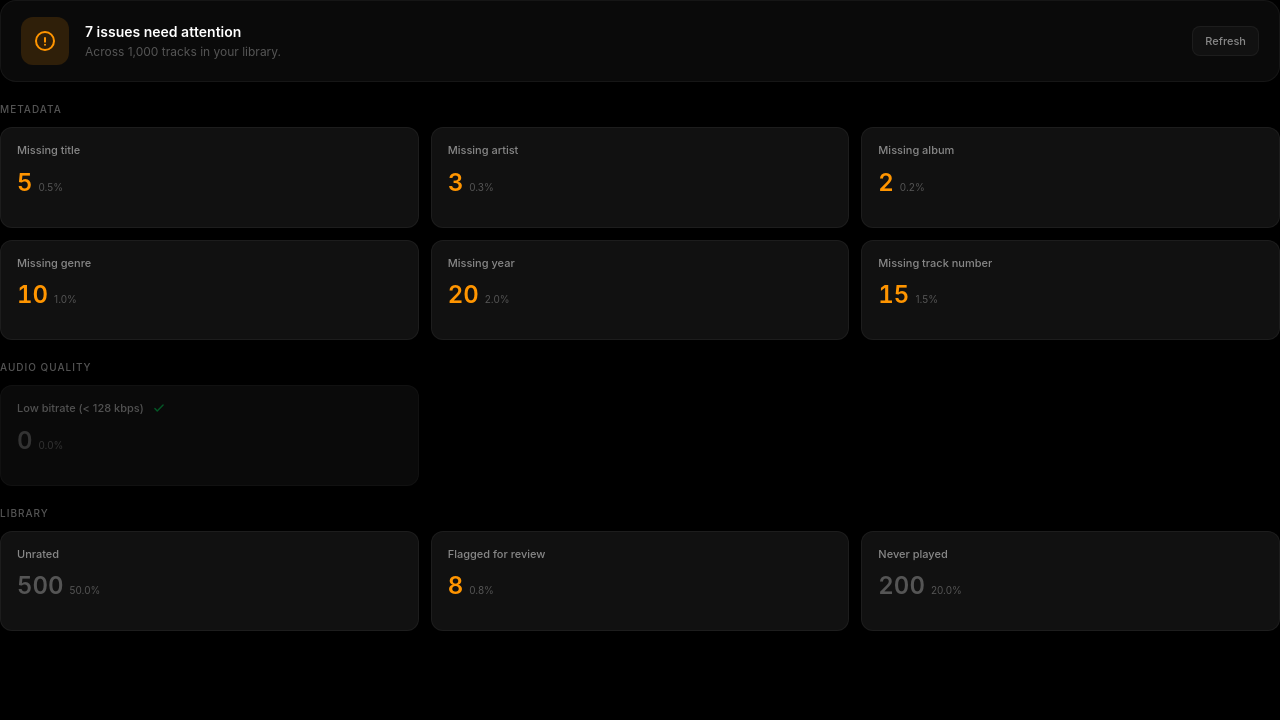
Test case: drill-down › shows selection count when tracks are clicked
Step 1. Click the text "Missing title" → (49, 150), box [17, 142, 80, 158]
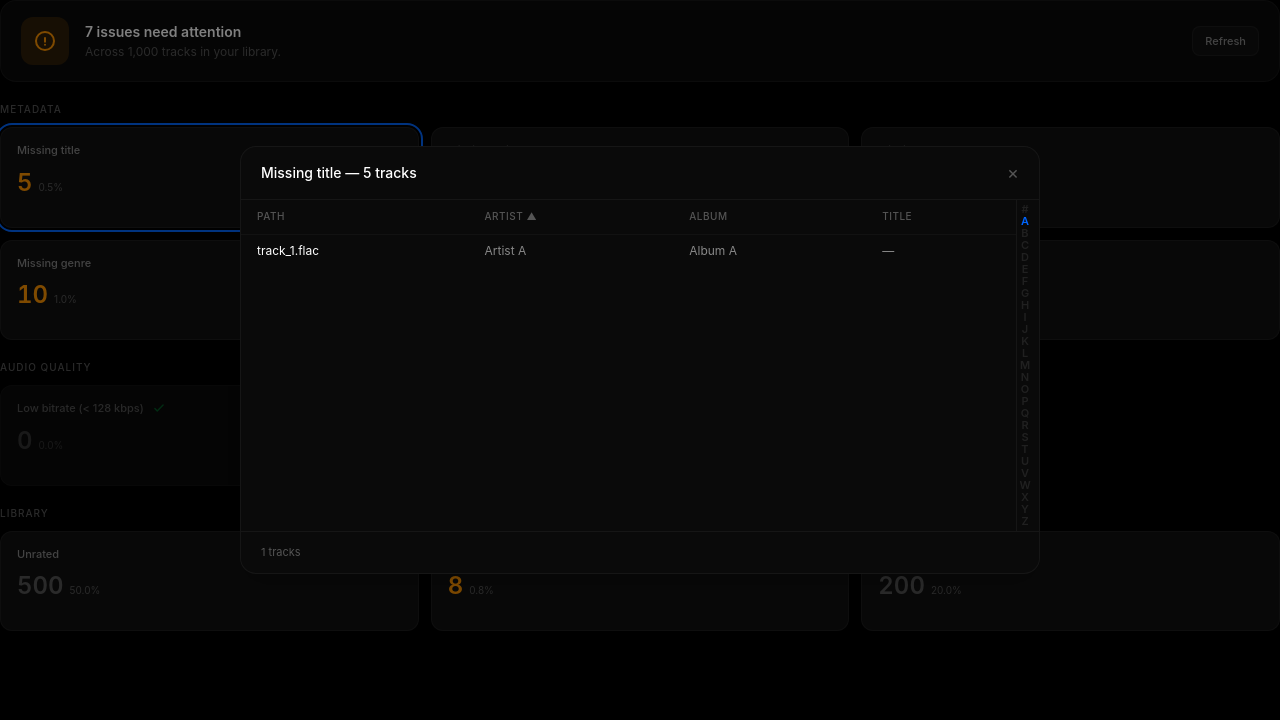
Expected: the text "track_1.flac" is shown
Step 2. Click the text "track_1.flac" → (288, 250), box [241, 234, 468, 267]
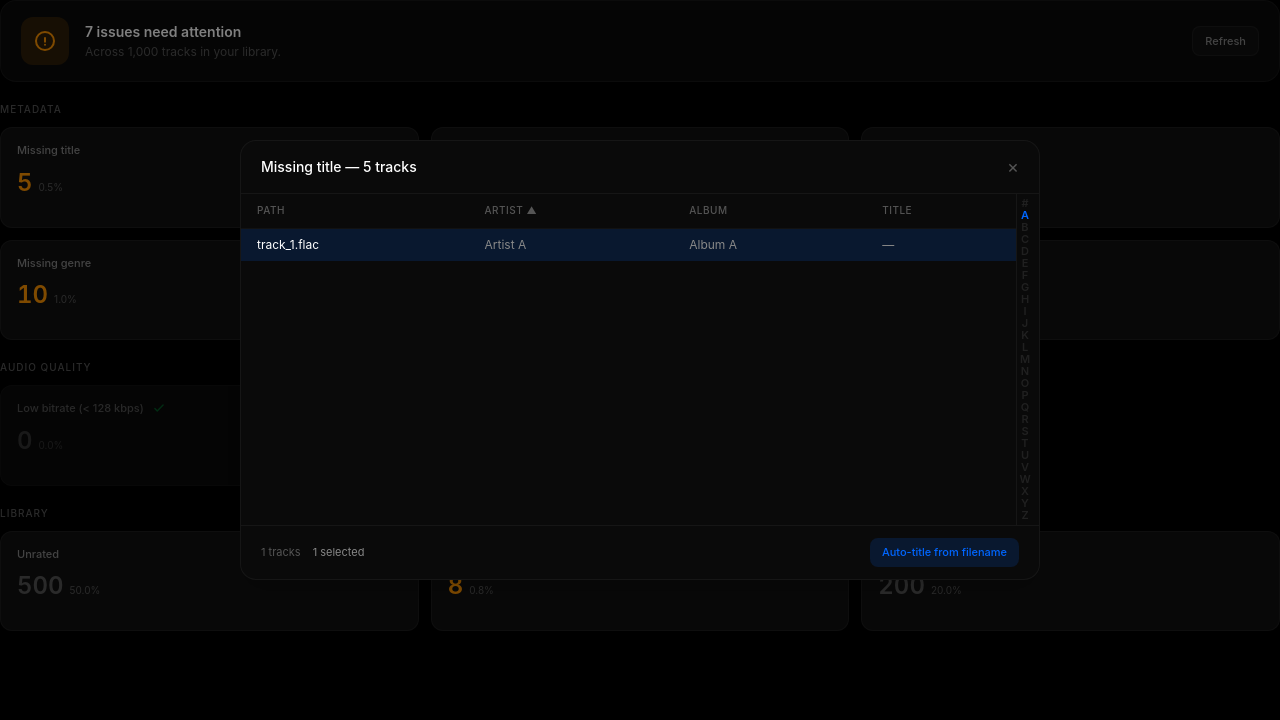
Expected: the text "1 selected" is shown, [313, 544, 364, 561]
